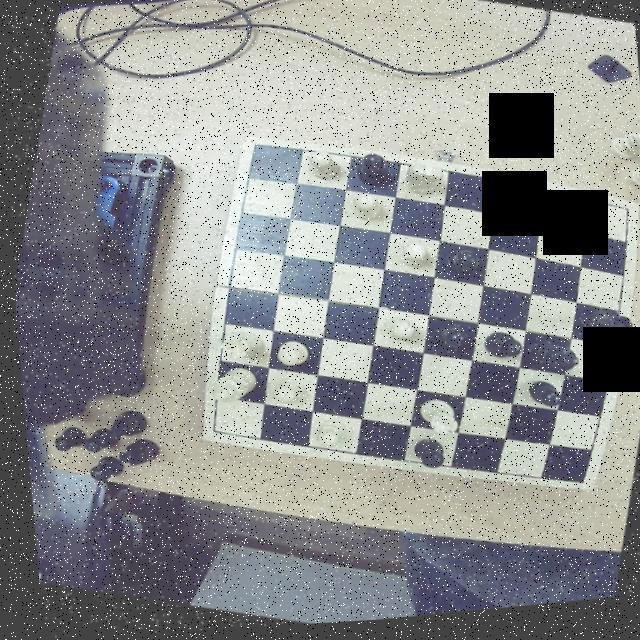chess-table-corners: (240, 137, 272, 165), (196, 415, 223, 443), (559, 475, 591, 498), (611, 208, 638, 232)
